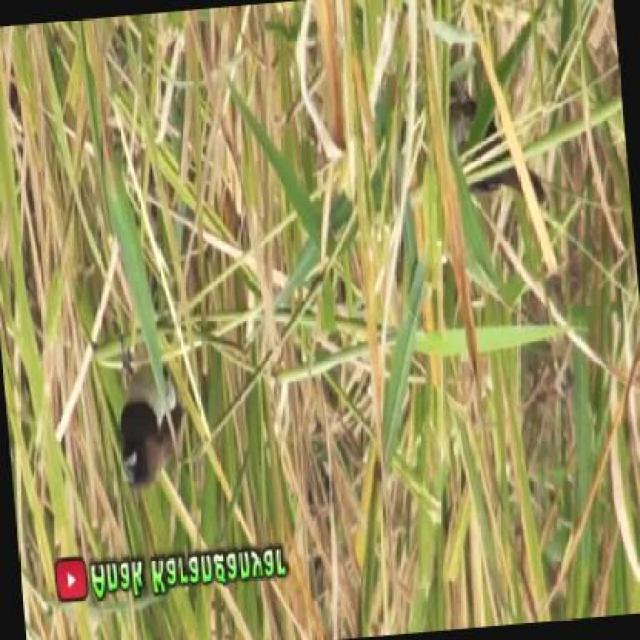Bird: (112, 309, 218, 478), (436, 77, 543, 199)
